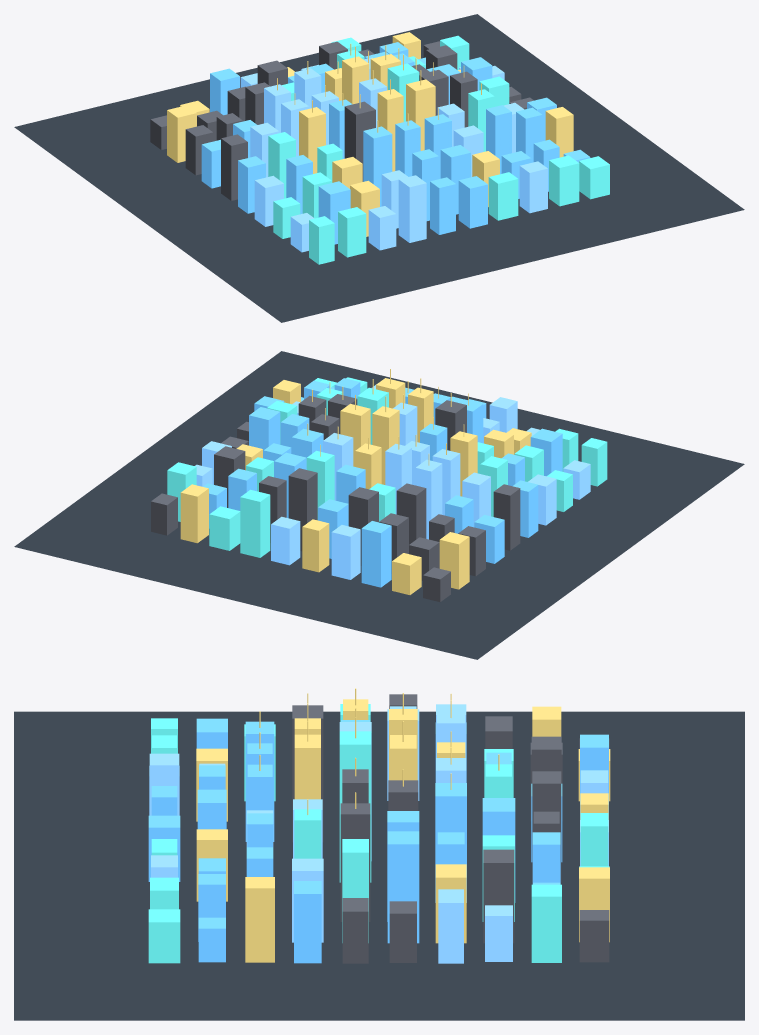
Rendered from city.glb.
The picture shows the model from 3 angles, top to bottom: view 1: azimuth 30°, elevation 25°; view 2: azimuth 150°, elevation 25°; view 3: azimuth 270°, elevation 25°; orthographic projection. The views are drawn at different scales.
Visible parts, largest first — view 1: PlazaGround, Tower_3_0, Tower_3_2, Tower_3_3, Tower_5_0, Tower_8_0, Tower_4_0, Tower_7_0, Tower_6_0, Tower_1_0, Tower_5_3, Tower_2_4 (+51 smaller); view 2: PlazaGround, Tower_6_9, Tower_2_9, Tower_5_8, Tower_8_9, Tower_3_9, Tower_0_8, Tower_0_5, Tower_2_7, Tower_4_9, Tower_5_9, Tower_2_6 (+52 smaller); view 3: PlazaGround, Tower_8_5, Tower_9_2, Tower_9_8, Tower_9_3, Tower_8_7, Tower_9_6, Tower_6_6, Tower_5_4, Tower_9_0, Tower_9_4, Tower_5_3 (+48 smaller).
Boxes of the visible parts, box(x1,y1,x2,y2) form: PlazaGround: box(14, 14, 744, 322); Tower_3_0: box(398, 175, 426, 242); Tower_3_2: box(363, 126, 392, 206); Tower_3_3: box(344, 101, 375, 181); Tower_5_0: box(458, 176, 487, 228); Tower_8_0: box(549, 155, 579, 206); Tower_4_0: box(430, 177, 455, 234); Tower_7_0: box(519, 161, 547, 213); Tower_6_0: box(488, 172, 518, 220); Tower_1_0: box(338, 207, 366, 257); Tower_5_3: box(406, 79, 435, 150); Tower_2_4: box(299, 107, 325, 173); PlazaGround: box(14, 351, 744, 659); Tower_6_9: box(240, 489, 270, 557); Tower_2_9: box(361, 521, 391, 587); Tower_5_8: box(288, 468, 317, 551); Tower_8_9: box(180, 484, 208, 543); Tower_3_9: box(331, 525, 360, 579); Tower_0_8: box(439, 532, 469, 589); Tower_0_5: box(493, 484, 520, 550); Tower_2_7: box(396, 483, 426, 544); Tower_4_9: box(302, 519, 329, 572); Tower_5_9: box(271, 516, 300, 565); Tower_2_6: box(415, 459, 442, 539); PlazaGround: box(14, 711, 744, 1020); Tower_8_5: box(387, 831, 419, 943); Tower_9_2: box(245, 877, 274, 962); Tower_9_8: box(531, 884, 561, 962); Tower_9_3: box(294, 881, 321, 963); Tower_8_7: box(483, 849, 514, 943); Tower_9_6: box(438, 889, 463, 963); Tower_6_6: box(435, 783, 466, 902); Tower_5_4: box(339, 731, 371, 882); Tower_9_0: box(148, 909, 180, 963); Tower_9_4: box(342, 898, 368, 963); Tower_5_3: box(294, 734, 320, 799).
Size of the model in its own units: 459 by 113 by 459.
